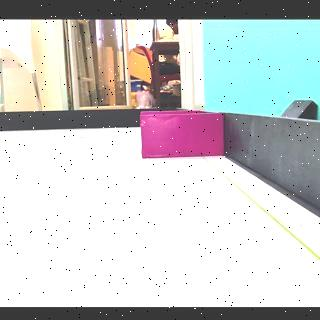xparking: (141, 116, 219, 157)
